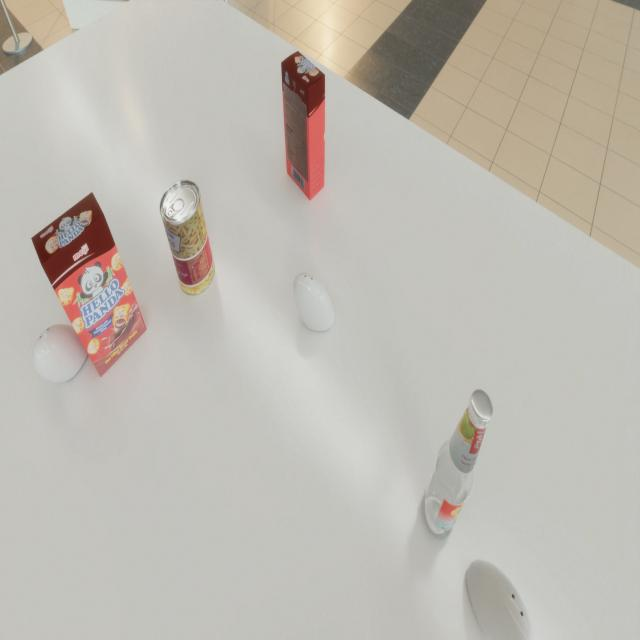Bottle: (421, 389, 493, 542)
HelloPanda: (31, 192, 147, 377), (281, 51, 325, 200)
Potato_sticks: (159, 180, 215, 296)
Salt: (467, 559, 535, 640), (31, 323, 91, 382), (293, 272, 334, 331)
